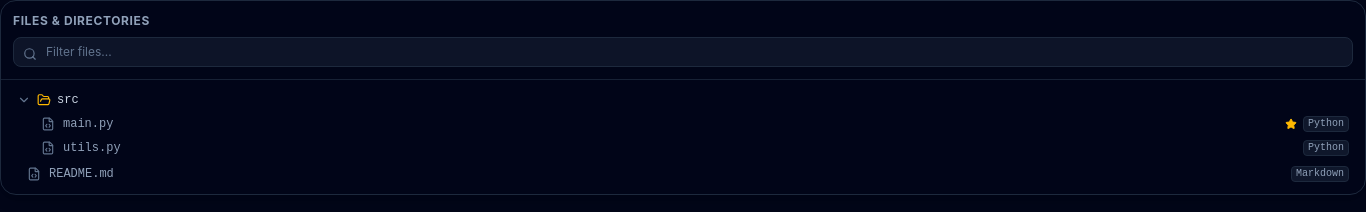
Scenario: FileExplorer › filters file list when query is entered
Type "utils" into the field with placeholder "Filter files...". click: coordinates (683, 52)
box: left=13, top=37, right=1353, bottom=67
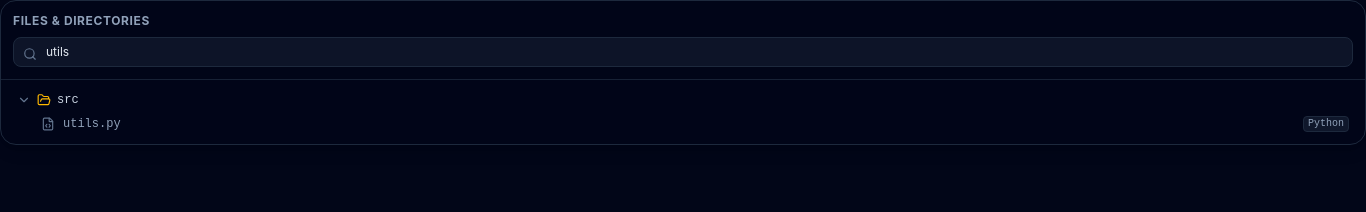
Expected: the text "utils.py" is shown, left=63, top=116, right=121, bottom=132
Expected: the text "README.md" is gone
